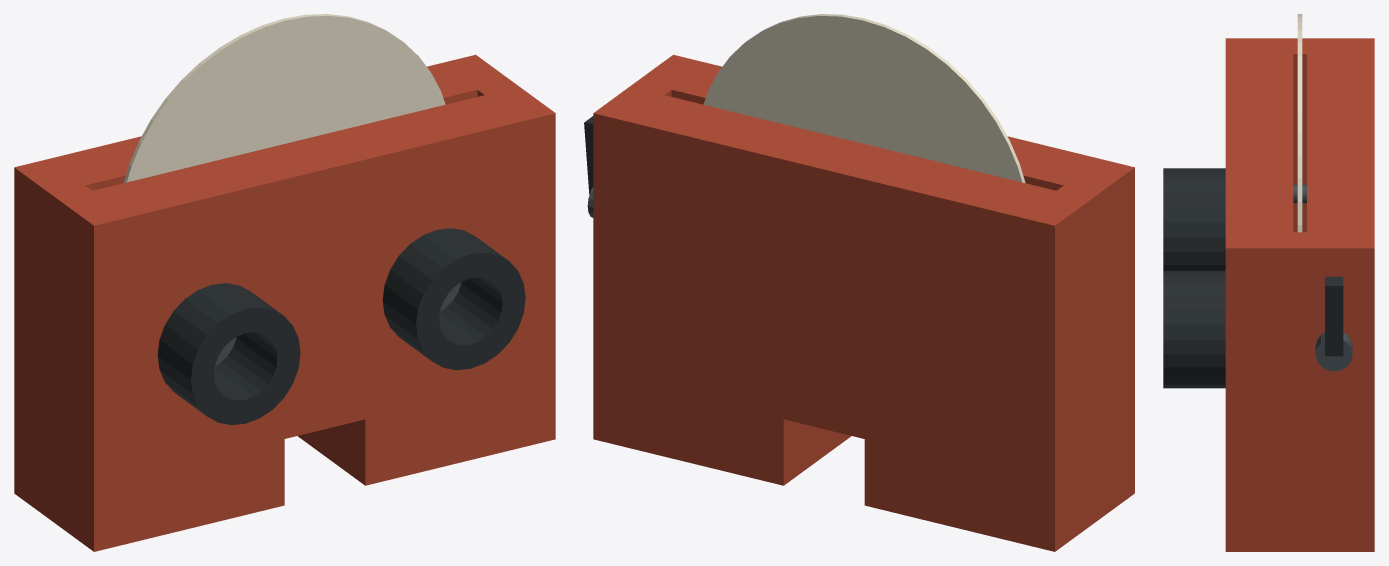
3 renders of one model, left to right at view 1: azimuth 30°, elevation 25°; view 2: azimuth 150°, elevation 25°; view 3: azimuth 270°, elevation 25°, orthographic. The views are drawn at different scales.
Parts seen in each view (by area): view 1: WholeGroundFootNotchedPortAndTopChannelCase, WholeBlankCircularCard, WholeAnnularEyeCup_1, WholeAnnularEyeCup_0; view 2: WholeGroundFootNotchedPortAndTopChannelCase, WholeBlankCircularCard; view 3: WholeGroundFootNotchedPortAndTopChannelCase, WholeAnnularEyeCup_1, WholeAnnularEyeCup_0, WholeFixedShortSideLever, WholeBlankCircularCard, WholeSideLeverPivot.
Part boxes in pixels (box(x1,y1,x2,y2)): WholeGroundFootNotchedPortAndTopChannelCase: box(14, 54, 555, 551); WholeBlankCircularCard: box(123, 14, 445, 182); WholeAnnularEyeCup_1: box(382, 228, 525, 370); WholeAnnularEyeCup_0: box(157, 283, 300, 425); WholeGroundFootNotchedPortAndTopChannelCase: box(593, 54, 1134, 551); WholeBlankCircularCard: box(703, 14, 1025, 182); WholeGroundFootNotchedPortAndTopChannelCase: box(1225, 38, 1374, 551); WholeAnnularEyeCup_1: box(1163, 270, 1225, 388); WholeAnnularEyeCup_0: box(1163, 168, 1225, 270); WholeFixedShortSideLever: box(1325, 276, 1343, 356); WholeBlankCircularCard: box(1297, 14, 1302, 232); WholeSideLeverPivot: box(1315, 332, 1352, 371).
Bounding box in the file's own units: 0.169 × 0.148 × 0.068.
